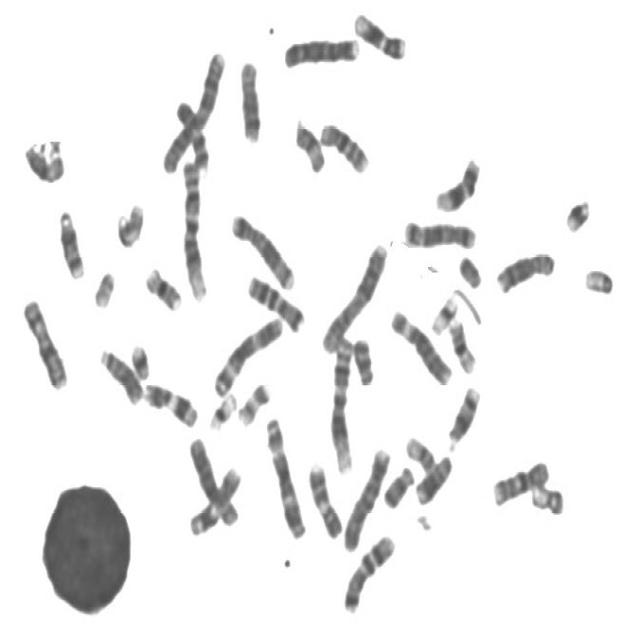A1: (177, 153, 209, 304), (326, 331, 357, 476)
A2: (158, 44, 227, 175), (317, 235, 389, 355)
A3: (209, 308, 285, 399), (261, 408, 308, 540)
B4: (339, 441, 392, 554), (279, 29, 362, 70)
B5: (226, 206, 298, 292), (400, 212, 478, 250)
C10: (488, 453, 552, 508), (315, 116, 371, 174)
C11: (185, 460, 242, 538), (139, 374, 200, 430)
C12: (349, 4, 409, 62), (431, 150, 483, 215)
C6: (184, 428, 242, 529), (386, 301, 454, 387)
C7: (339, 527, 398, 615), (243, 267, 307, 333)
C8: (492, 242, 558, 296), (235, 52, 263, 144)
C9: (304, 456, 345, 540), (172, 95, 210, 172)
D13: (96, 341, 144, 406), (412, 448, 454, 507)
D14: (444, 378, 482, 453), (54, 202, 87, 281)
D15: (290, 111, 328, 175), (20, 136, 66, 184)
E16: (141, 260, 184, 313), (445, 312, 478, 374)
E17: (234, 374, 272, 428), (112, 196, 146, 249)
E18: (380, 458, 416, 511), (348, 330, 377, 387)
F19: (204, 385, 238, 431), (427, 288, 459, 336)
F20: (528, 476, 566, 518), (404, 435, 436, 475)
G21: (560, 190, 592, 234), (126, 336, 152, 380)
G22: (89, 263, 117, 310), (580, 260, 616, 296)
X: (18, 290, 70, 392)
Y: (454, 248, 484, 289)
